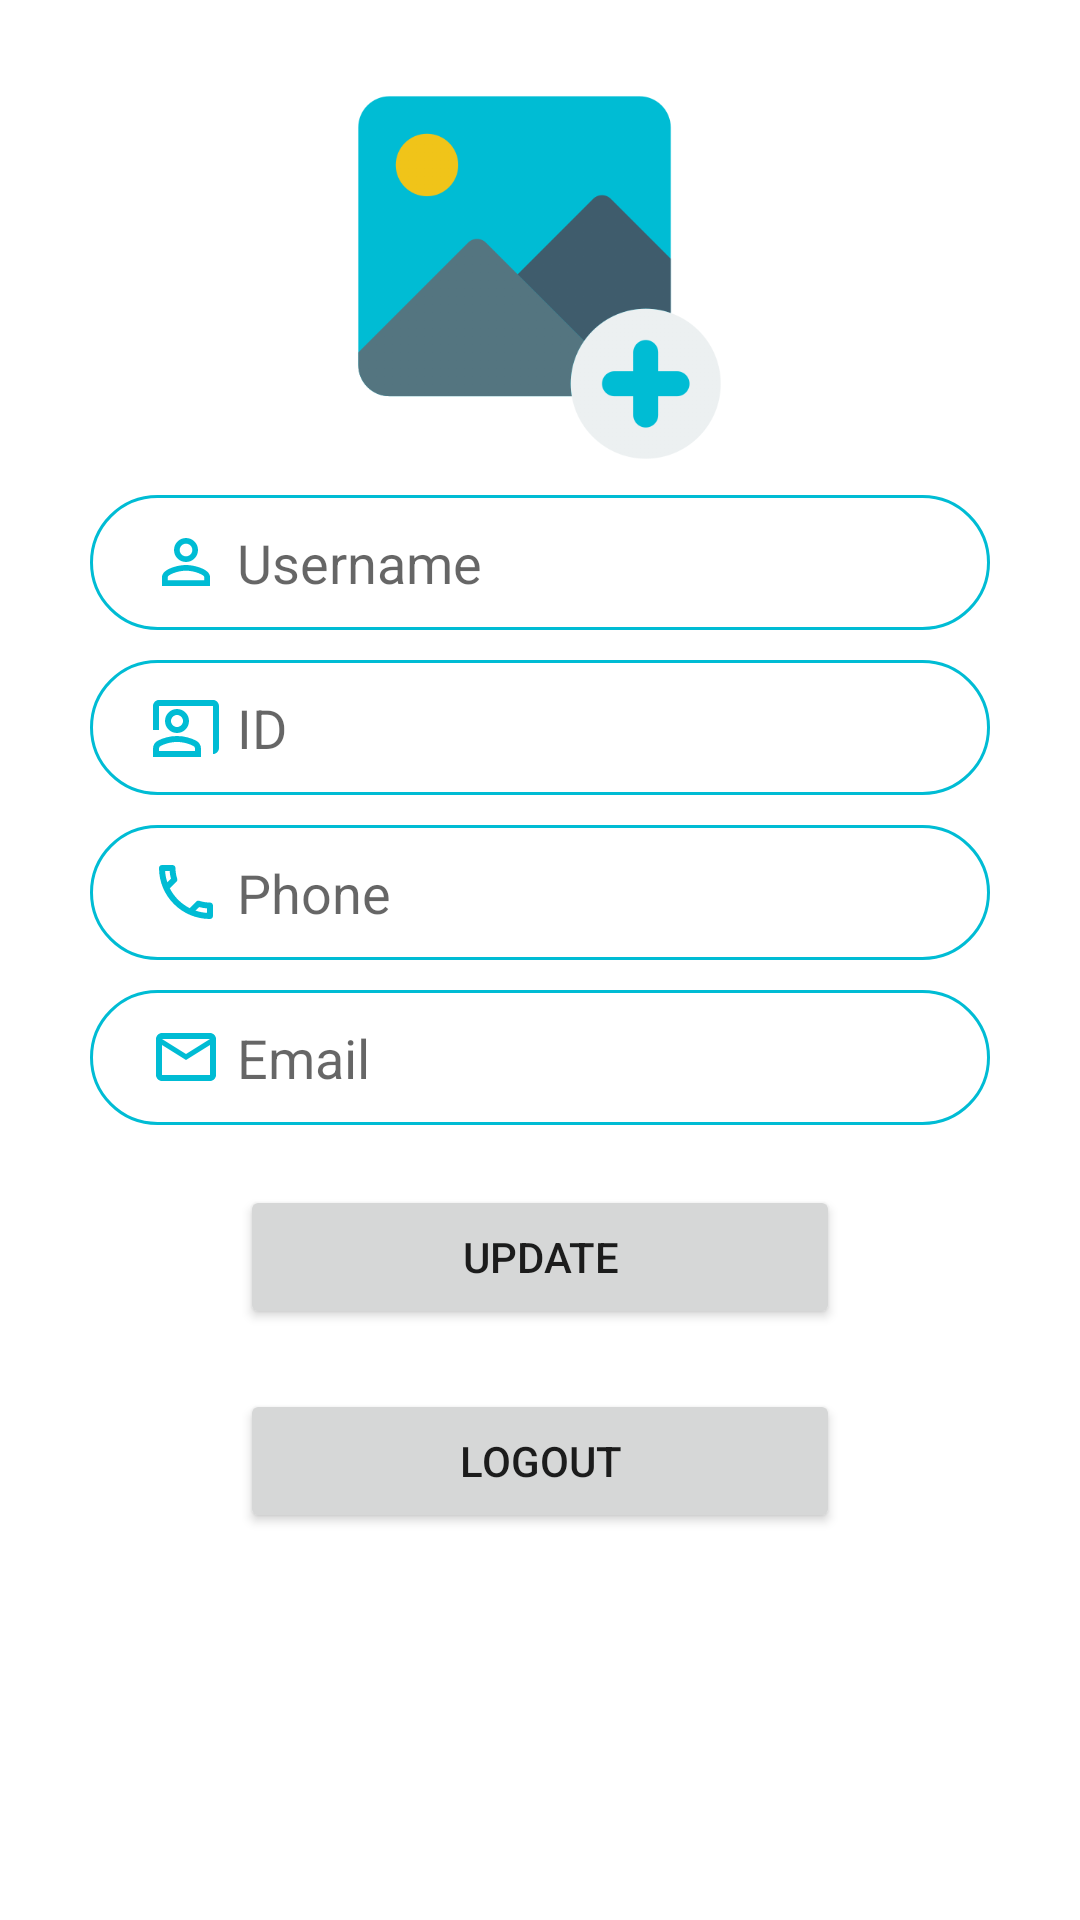

Locate icon controls on the screen. Image size 1080*1920, boxes as bbox=(x1, y1, x2, y2).
add: bbox=(358, 96, 690, 428)
